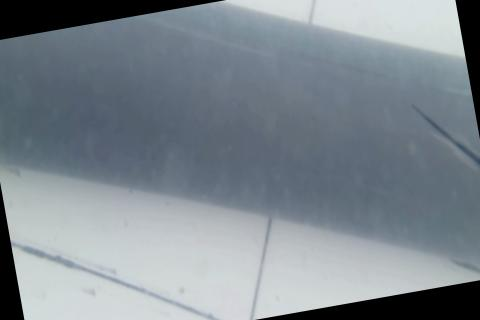keretakan: (407, 91, 480, 200)
